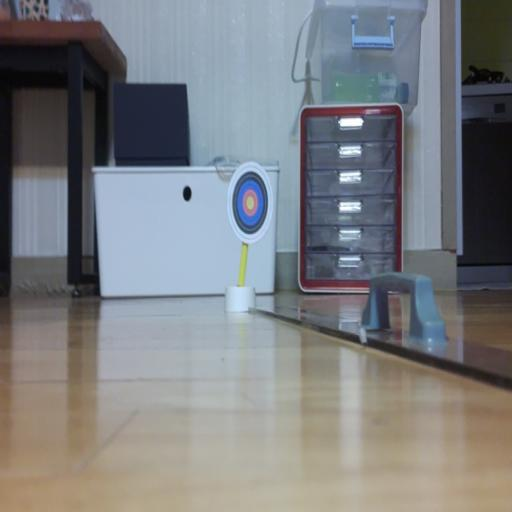target: (227, 162, 274, 243)
